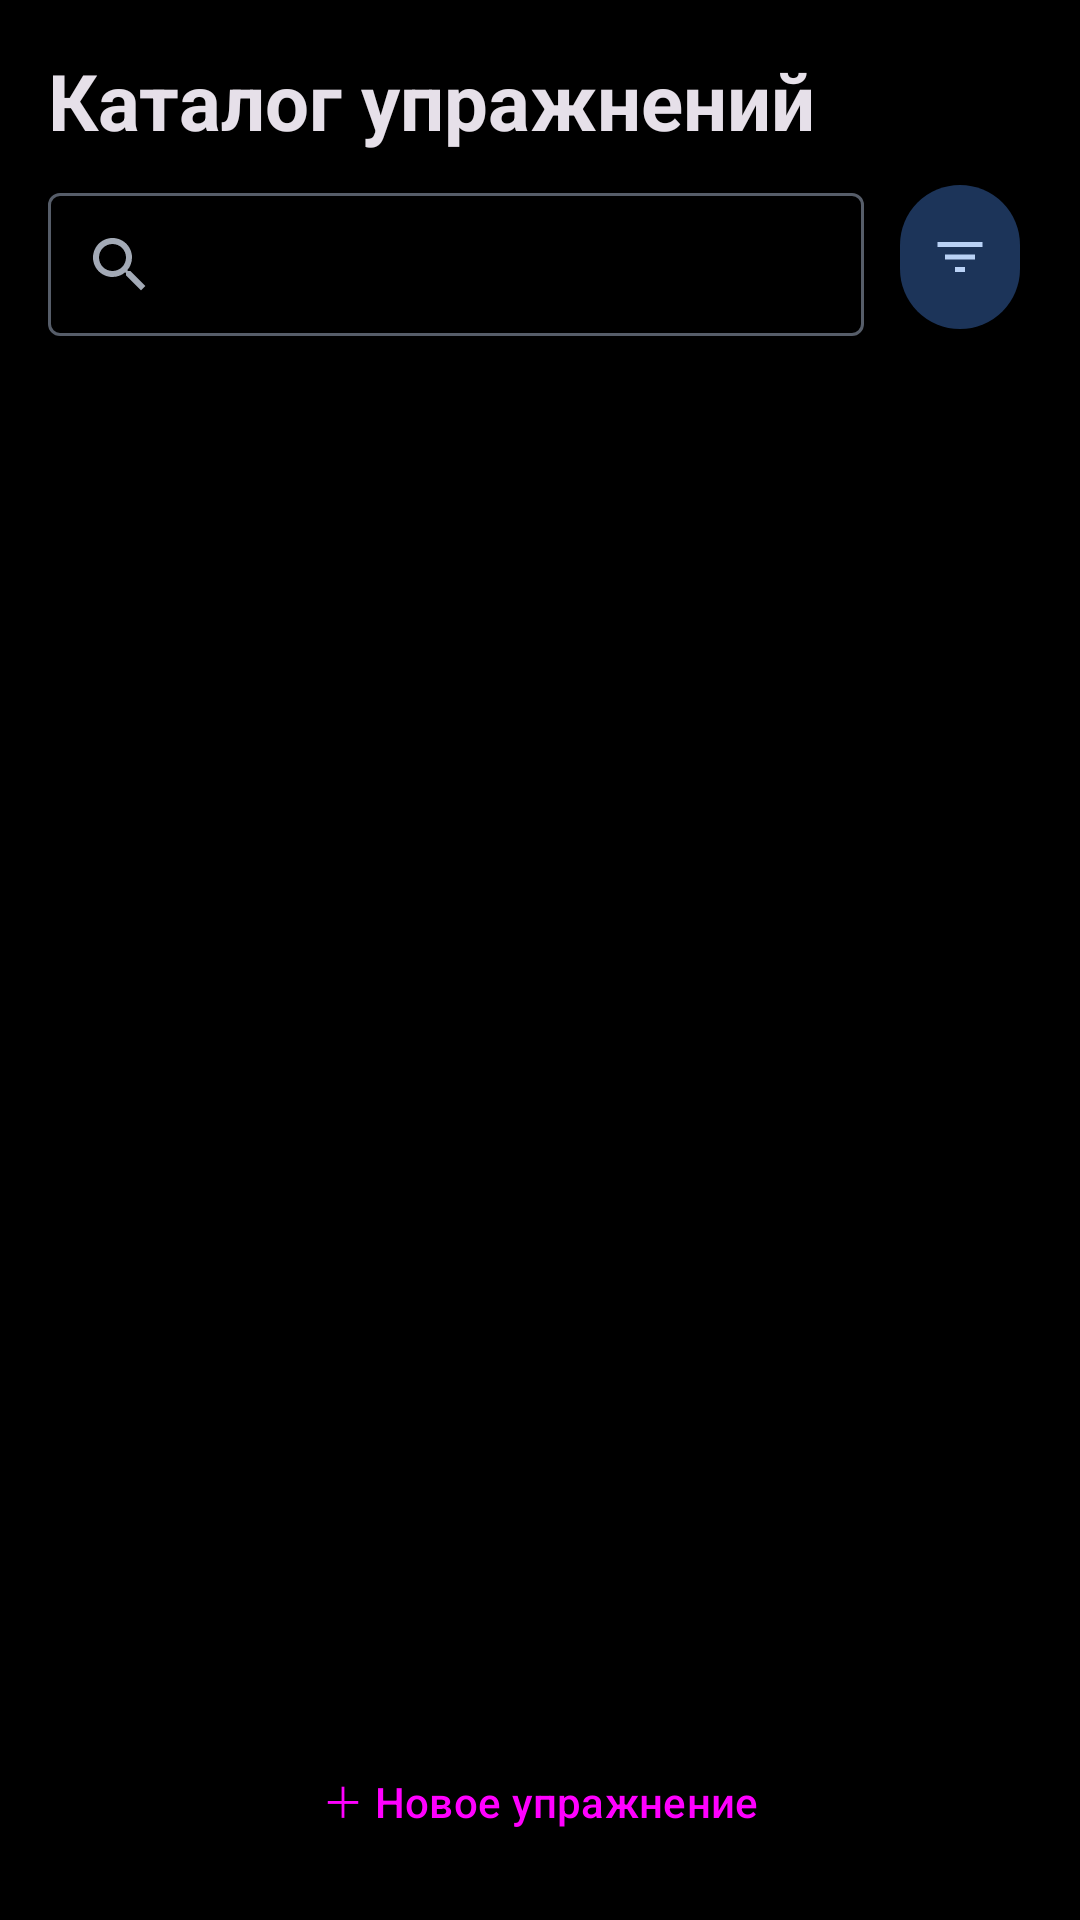

Where icons sit on this 1080x1920 app screen, as (x1, y1, x2, y2):
Фильтр по категории: (900, 185, 1020, 329)
